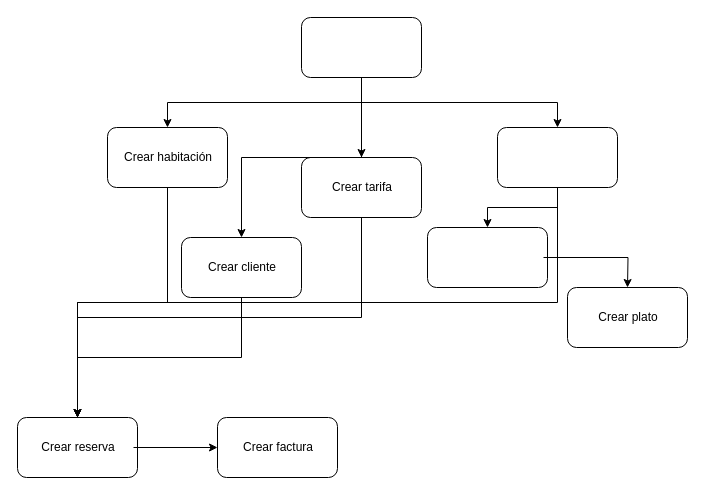
This 705x495 diagram has some shape labels left out. Each missing label, with the centre of its shape:
"Crear menú" goes at (487,257).
"Crear usuario" goes at (361,47).
"Registrar servicio" goes at (557,157).
